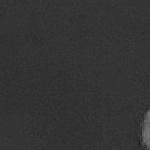colony: (136, 102, 150, 150)
